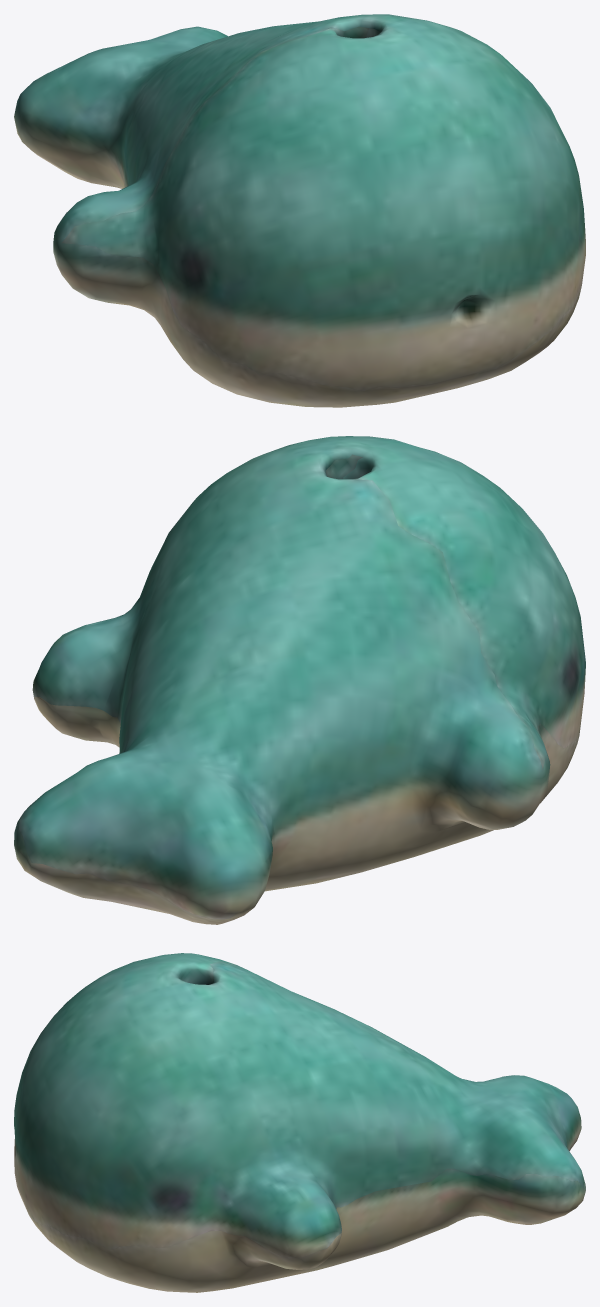
Rendered from gso_whale_whistle_6pcs_set.glb.
3 views of the same model, one above another, from view 1: azimuth 30°, elevation 25°; view 2: azimuth 150°, elevation 25°; view 3: azimuth 270°, elevation 25° (orthographic). The views are drawn at different scales.
Parts seen in each view (by area): view 1: z-up-to-y-up; view 2: z-up-to-y-up; view 3: z-up-to-y-up.
Boxes of the visible parts, left/top/right/bottom form: z-up-to-y-up: left=14, top=14, right=585, bottom=407; z-up-to-y-up: left=14, top=436, right=585, bottom=924; z-up-to-y-up: left=14, top=953, right=585, bottom=1292.
Bounding box in the file's own units: 0.0582 × 0.038 × 0.0733.
1 material, 1 textured.
